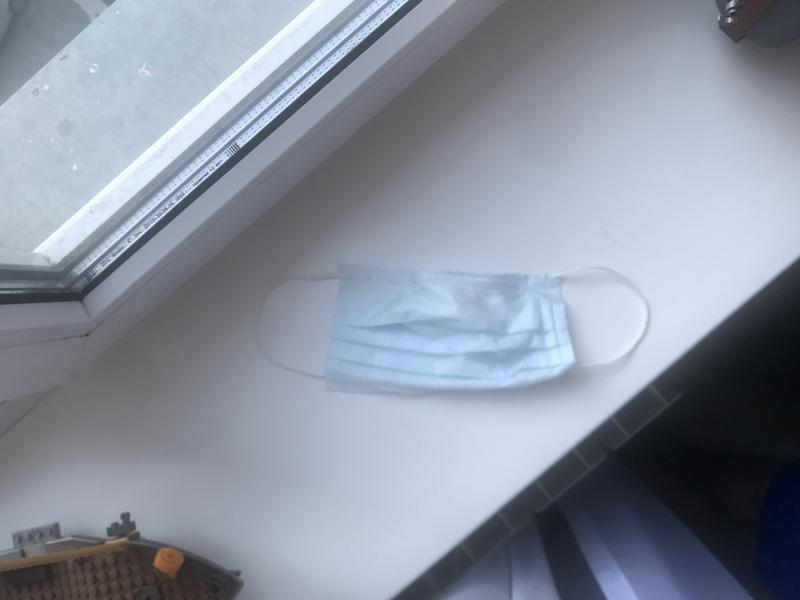medical_mask: (252, 263, 649, 389)
